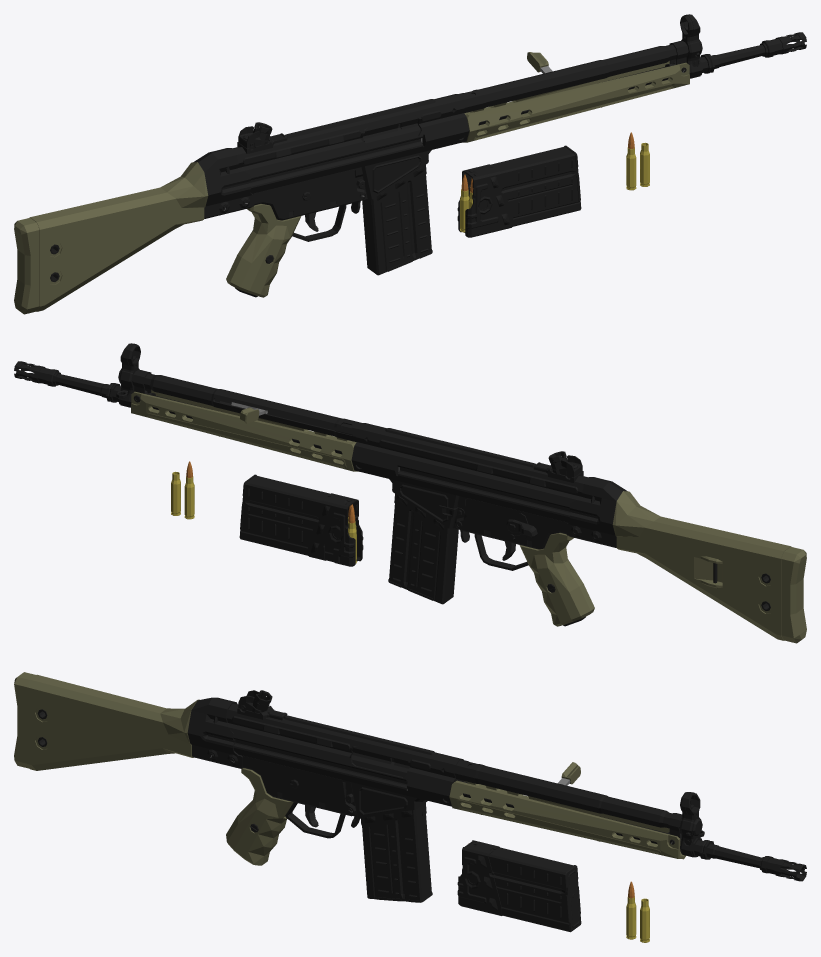
3 views of the same model, one above another, from view 1: azimuth 30°, elevation 25°; view 2: azimuth 150°, elevation 25°; view 3: azimuth 330°, elevation 25° (orthographic).
Parts seen in each view (by area): view 1: g3 upper receiver_9, g3 fixed stock_5, g3 20rnd mag_2, g3 handguard_16, g3 20rnd mag empty_7, g3 lower_10, g3 grip_13, g3 17.7in barrel_8, g3 bolt_6, g3 flash hider_14; view 2: g3 upper receiver_9, g3 fixed stock_5, g3 20rnd mag_2, g3 handguard_16, g3 20rnd mag empty_7, g3 grip_13, g3 lower_10, g3 17.7in barrel_8, g3 flash hider_14; view 3: g3 upper receiver_9, g3 fixed stock_5, g3 20rnd mag_2, g3 handguard_16, g3 20rnd mag empty_7, g3 lower_10, g3 grip_13, g3 17.7in barrel_8, g3 bolt_6, g3 flash hider_14.
Part boxes in pixels (<box>): g3 upper receiver_9: <box>232,41,688,200</box>; g3 fixed stock_5: <box>14,148,254,314</box>; g3 20rnd mag_2: <box>457,145,581,237</box>; g3 handguard_16: <box>461,61,689,142</box>; g3 20rnd mag empty_7: <box>362,165,432,275</box>; g3 lower_10: <box>235,169,366,297</box>; g3 grip_13: <box>226,204,301,297</box>; g3 17.7in barrel_8: <box>478,14,768,125</box>; g3 bolt_6: <box>363,93,475,146</box>; g3 flash hider_14: <box>762,32,806,57</box>; g3 upper receiver_9: <box>132,370,588,529</box>; g3 fixed stock_5: <box>566,477,806,643</box>; g3 20rnd mag_2: <box>239,474,363,566</box>; g3 handguard_16: <box>131,390,359,471</box>; g3 20rnd mag empty_7: <box>388,494,458,604</box>; g3 grip_13: <box>519,533,594,626</box>; g3 lower_10: <box>454,498,585,626</box>; g3 17.7in barrel_8: <box>52,343,342,454</box>; g3 flash hider_14: <box>14,361,58,386</box>; g3 upper receiver_9: <box>226,690,682,838</box>; g3 fixed stock_5: <box>14,672,243,770</box>; g3 20rnd mag_2: <box>457,840,581,932</box>; g3 handguard_16: <box>449,780,685,859</box>; g3 20rnd mag empty_7: <box>361,789,432,902</box>; g3 lower_10: <box>242,755,356,838</box>; g3 grip_13: <box>226,768,293,865</box>; g3 17.7in barrel_8: <box>458,780,764,869</box>; g3 bolt_6: <box>351,746,472,779</box>; g3 flash hider_14: <box>760,856,806,881</box>.
Size of the model in its own units: 10.27 by 2.25 by 0.7803.
